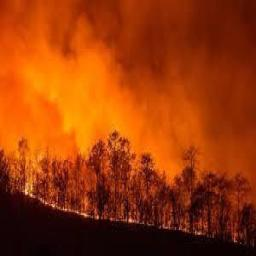Heavy smoke: (0, 0, 256, 172)
Large fire: (0, 163, 254, 252)
